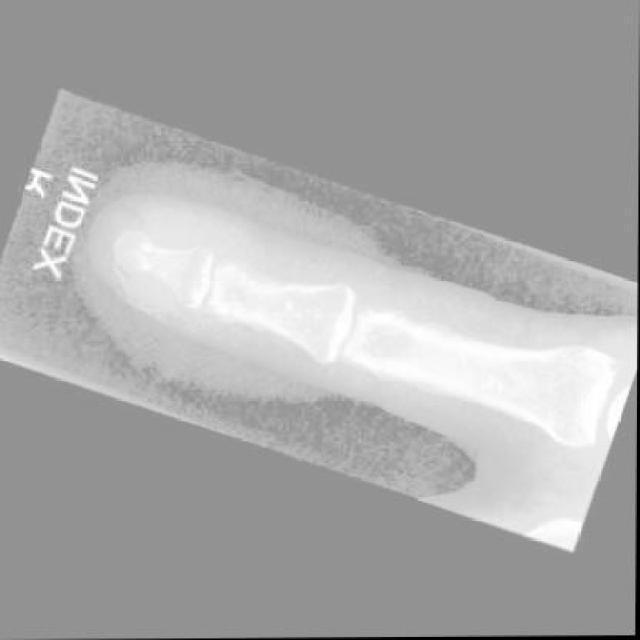Fracture: (108, 222, 145, 267)
